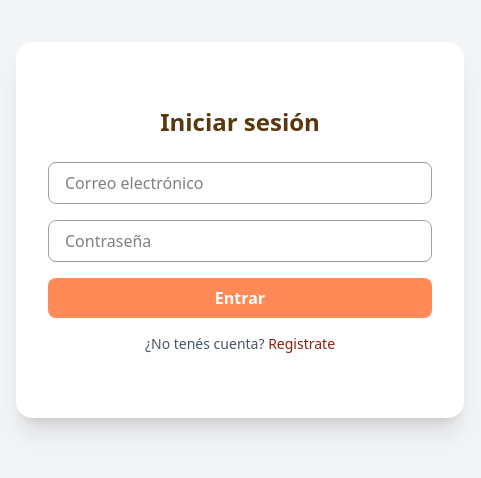
Test: Login Component › muestra error de backend para login fallido (401)
In the field with placeholder "Correo electrónico": (240, 183) [48,162,432,204], type "test@example.com"
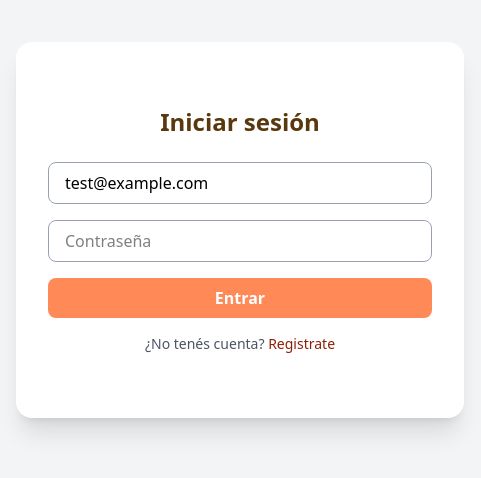
In the password field with placeholder "Contraseña": (240, 241) [48,220,432,262], type "password123"
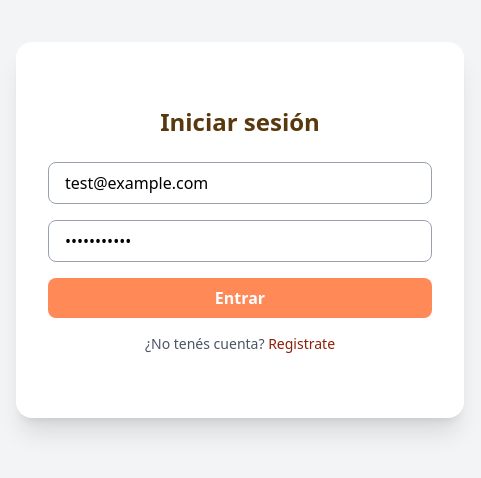
Click the button "Entrar": (240, 298) [48,278,432,318]
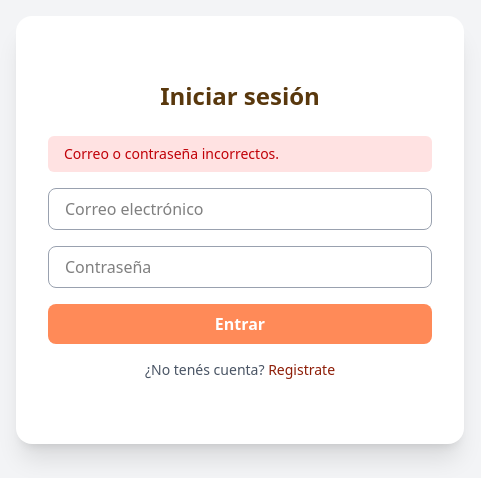
Check: the text "Correo o contraseña incorrectos." is shown, box [48,136,432,172]
